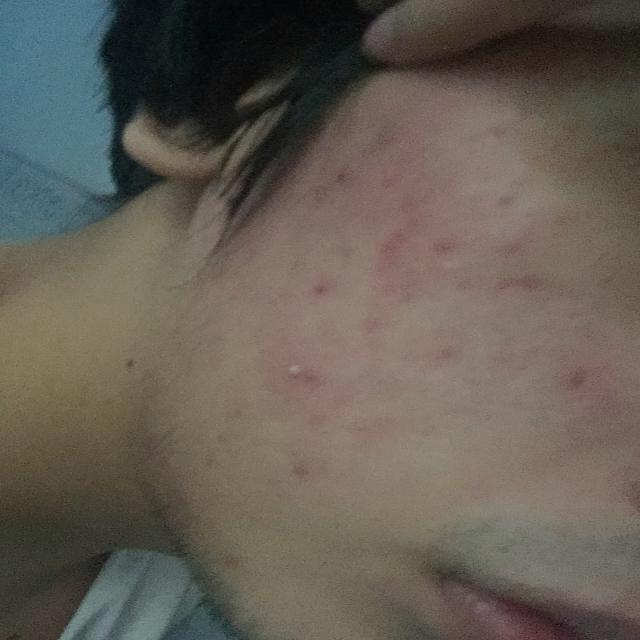Pimples: (277, 352, 310, 388)
